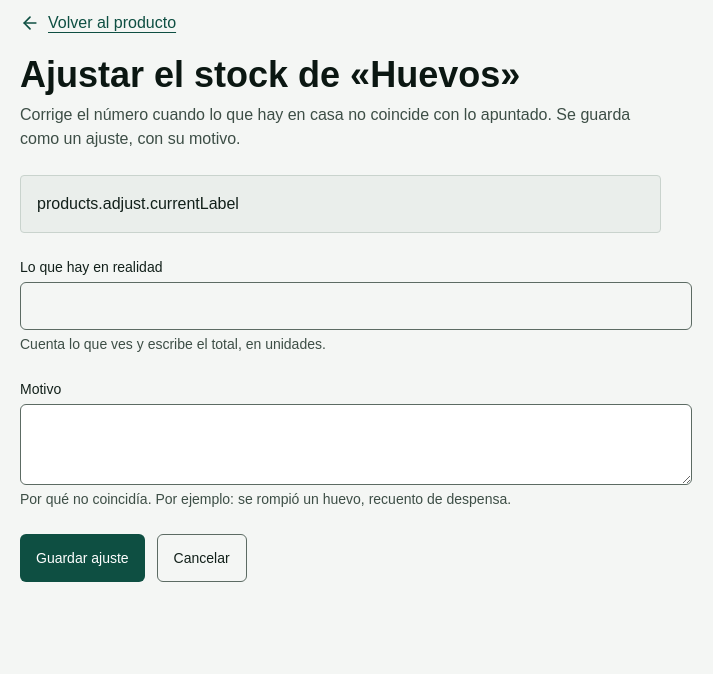
it: the adjustment › does not turn a blank recount into zero stock
Type "Recuento" into the text box labelled "Motivo" at (356, 444), box [20,404,692,485]
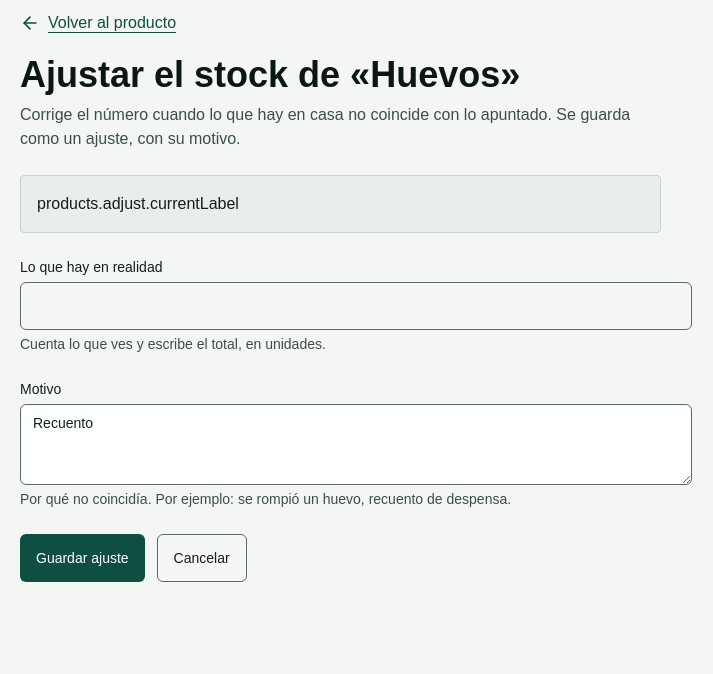
Click the button "Guardar ajuste" at (82, 558), box [20,534,145,582]
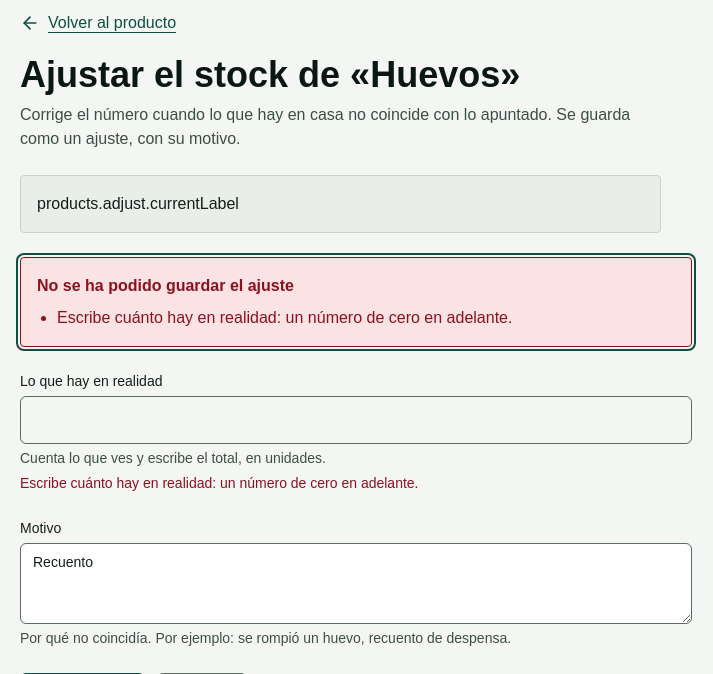
Result: the message is shown at [20,257,692,347]
